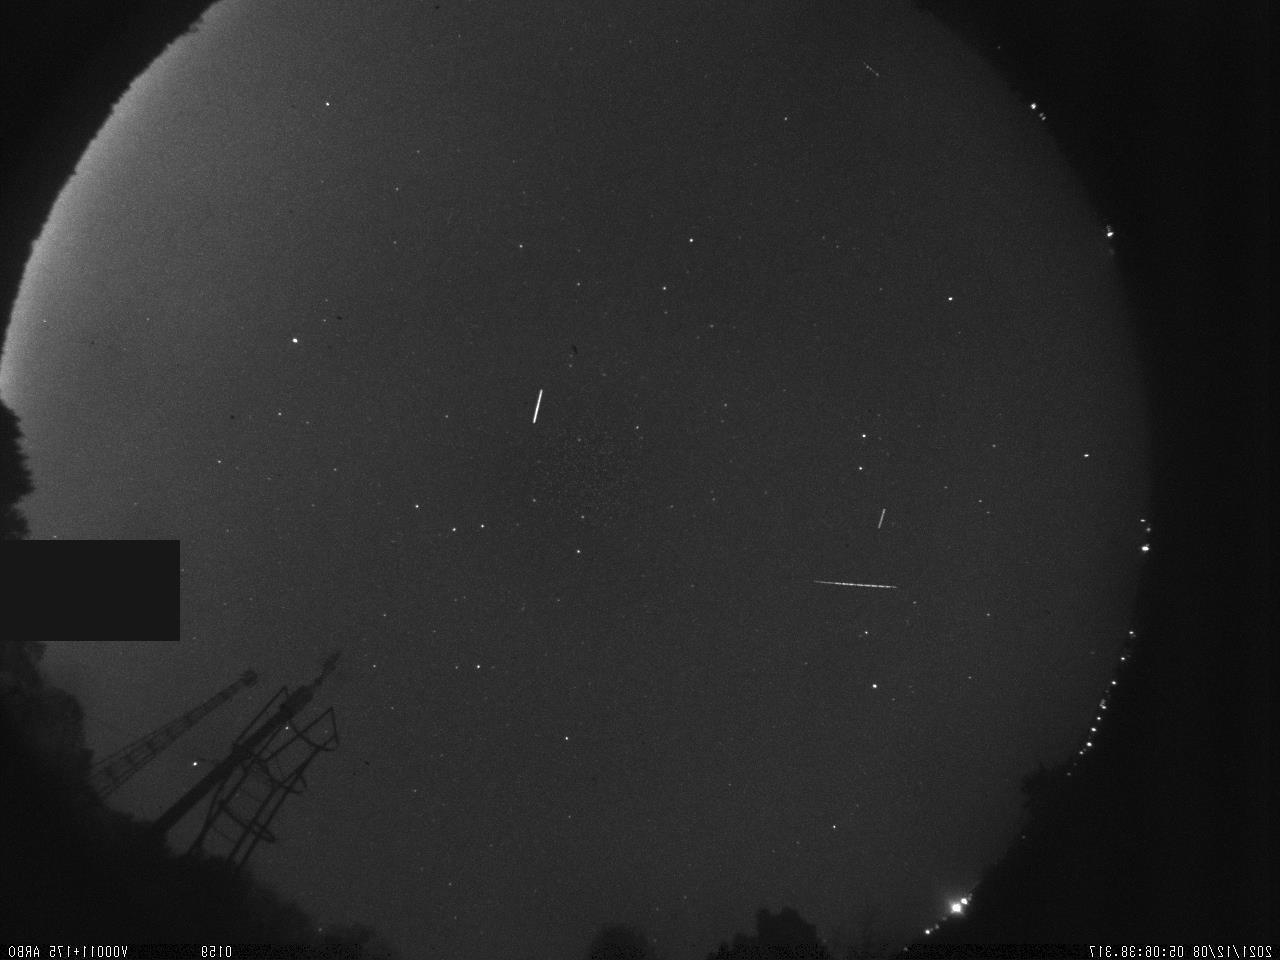meteor: (807, 575, 903, 597)
satelite: (524, 383, 548, 431), (873, 503, 891, 536)
